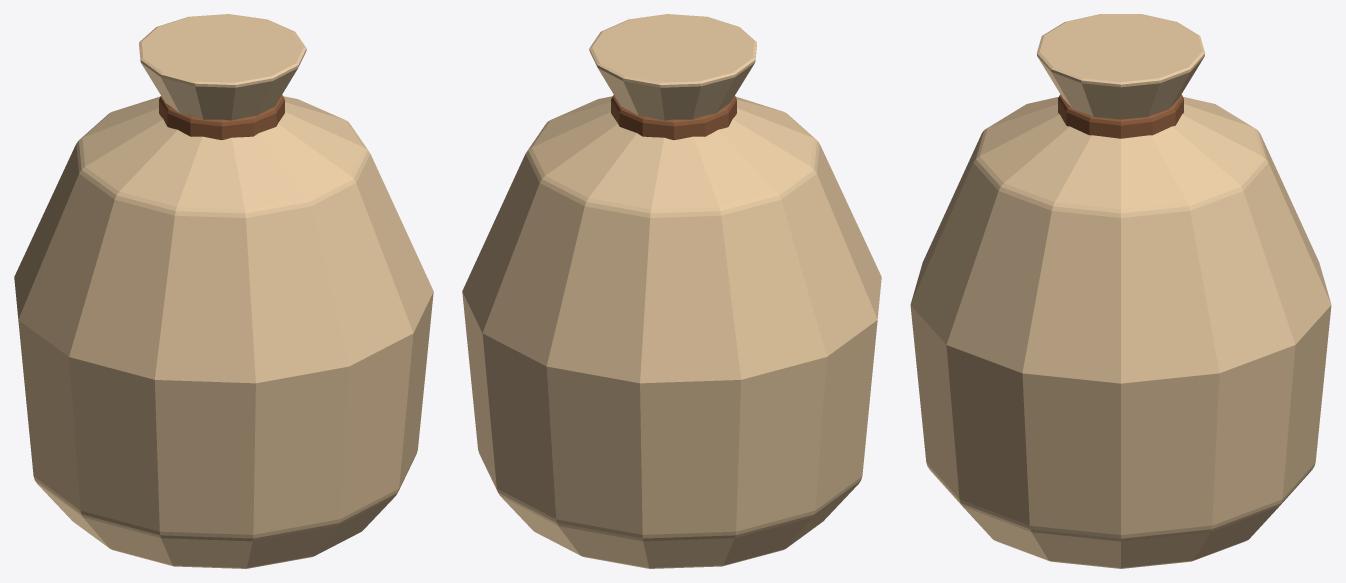
Rendered from ashwick-supply-sack.meshopt.glb.
The picture shows the model from 3 angles, left to right: view 1: azimuth 30°, elevation 25°; view 2: azimuth 150°, elevation 25°; view 3: azimuth 270°, elevation 25°; orthographic projection.
Parts seen in each view (by area): view 1: Canvas sack.001, Twine.001; view 2: Canvas sack.001, Twine.001; view 3: Canvas sack.001, Twine.001.
Part boxes in pixels (bbox=[...]): Canvas sack.001: bbox=[14, 14, 433, 568]; Twine.001: bbox=[159, 95, 284, 139]; Canvas sack.001: bbox=[462, 14, 881, 568]; Twine.001: bbox=[611, 95, 736, 139]; Canvas sack.001: bbox=[910, 14, 1331, 568]; Twine.001: bbox=[1058, 94, 1183, 138].
Size of the model in its own units: 0.7687 by 0.93 by 0.7743.
